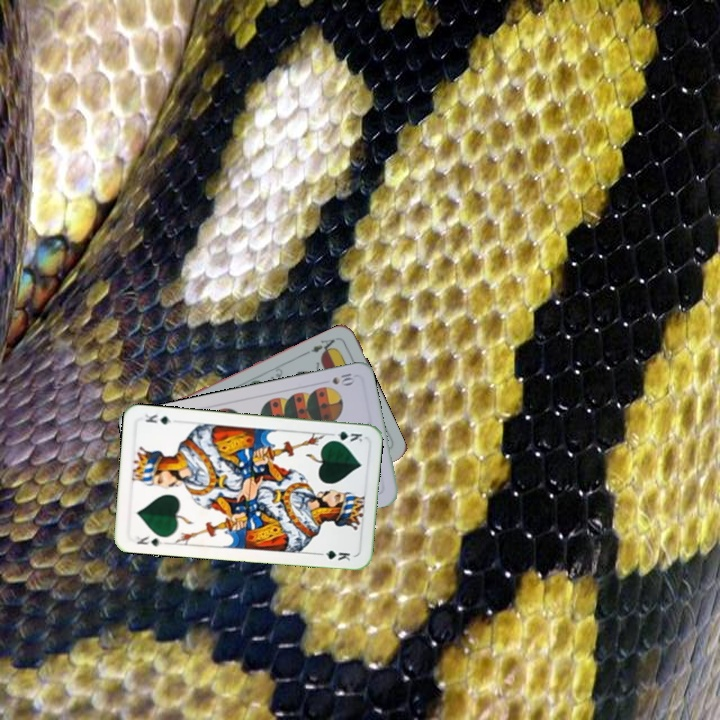EA: (302, 335, 339, 357)
GK: (325, 427, 365, 445), (133, 532, 169, 549)
S10: (328, 369, 357, 388)
